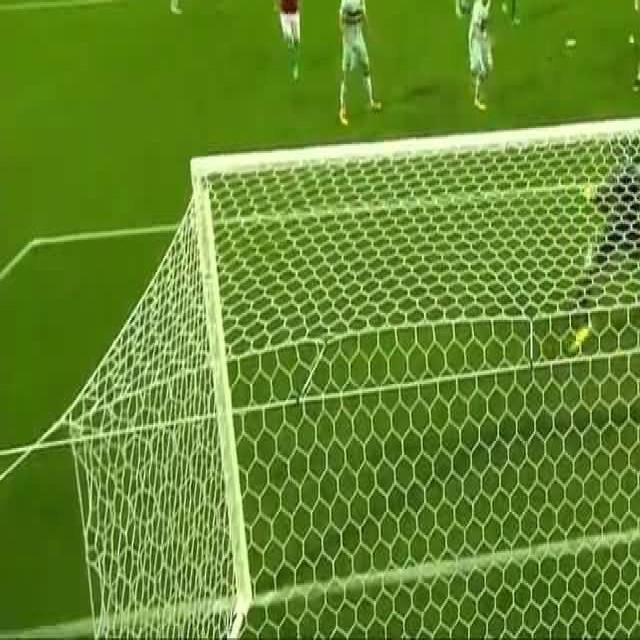player-white: (568, 57, 640, 347), (336, 0, 381, 124), (468, 0, 492, 110), (272, 0, 301, 82), (633, 0, 640, 90), (505, 0, 522, 26), (449, 0, 470, 18), (160, 0, 183, 14)
